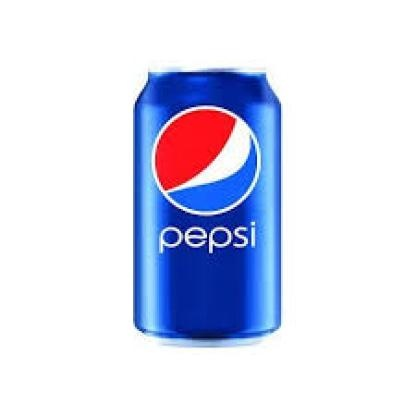trash: (134, 70, 280, 337)
